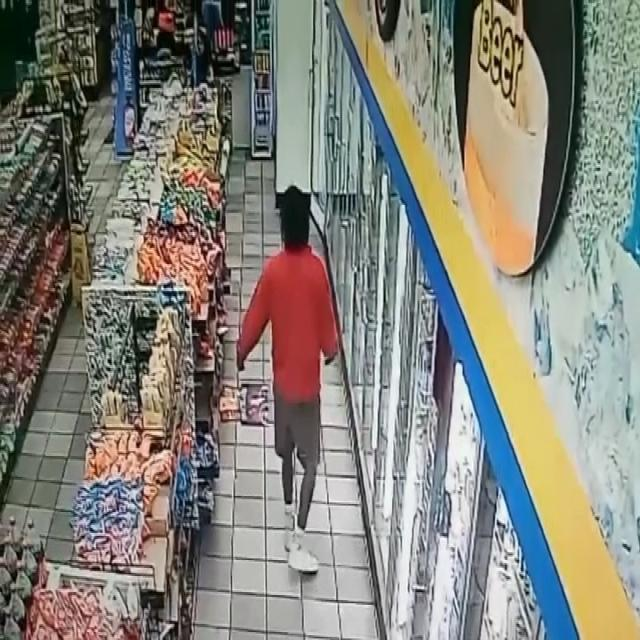normal: (230, 163, 342, 578)
